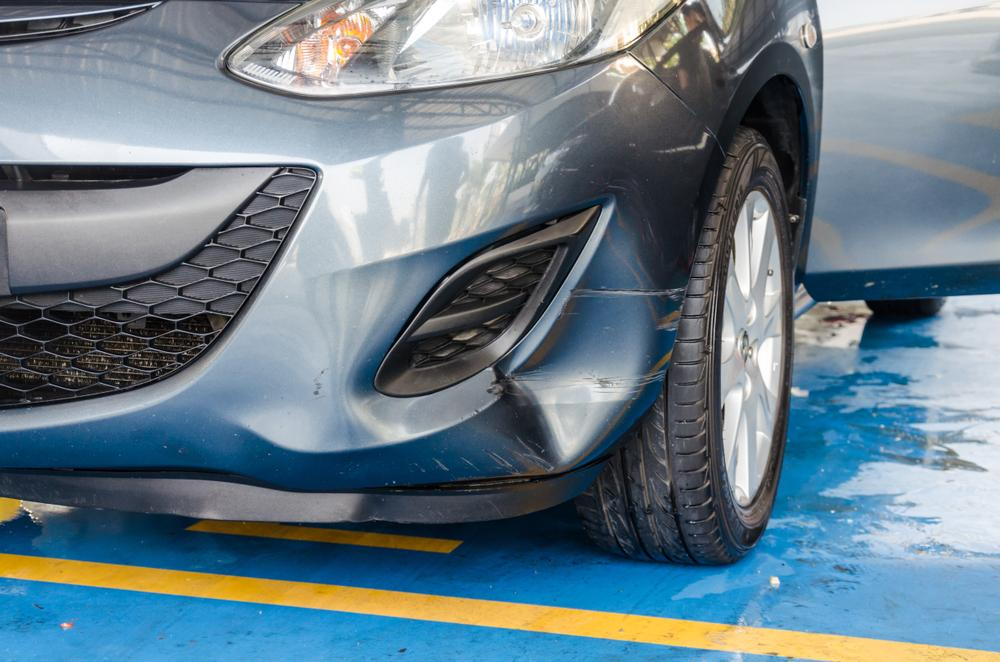dent: (474, 209, 647, 468)
scratch: (636, 284, 687, 387), (419, 447, 509, 472)
